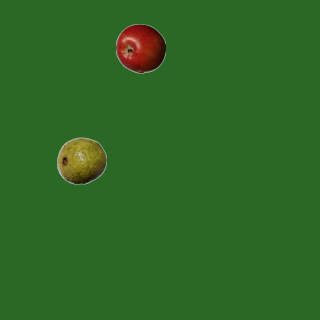Apple Braeburn: (115, 23, 165, 73)
Guava: (56, 135, 106, 185)
